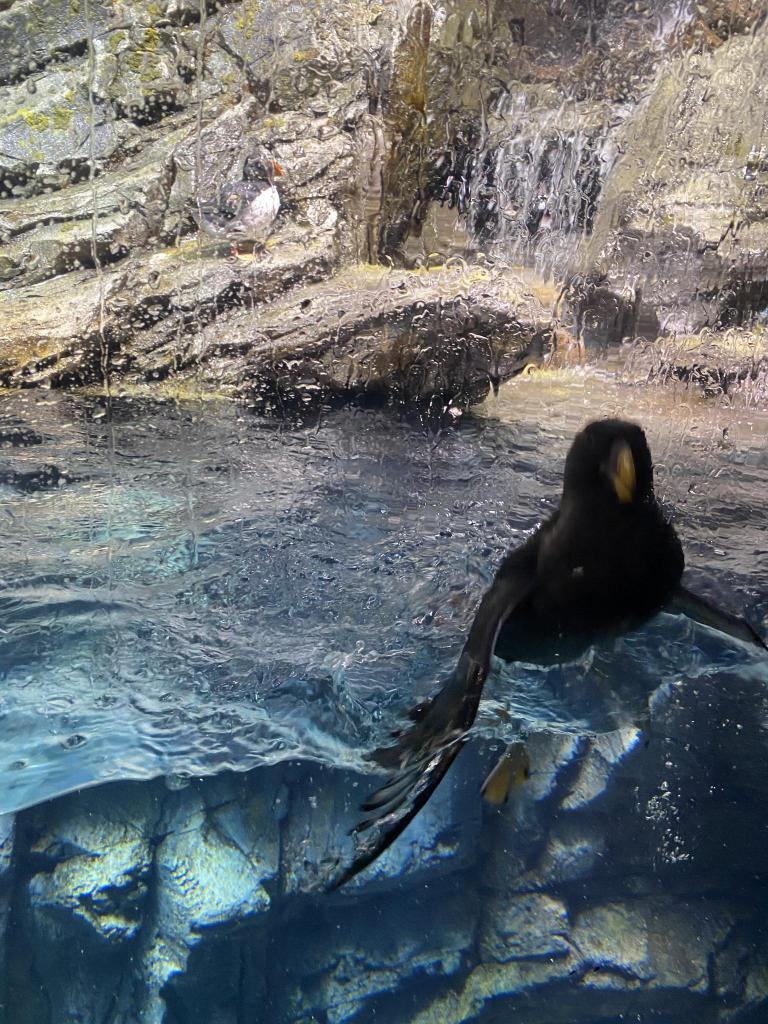puffin: (343, 414, 767, 866), (182, 146, 288, 262)
